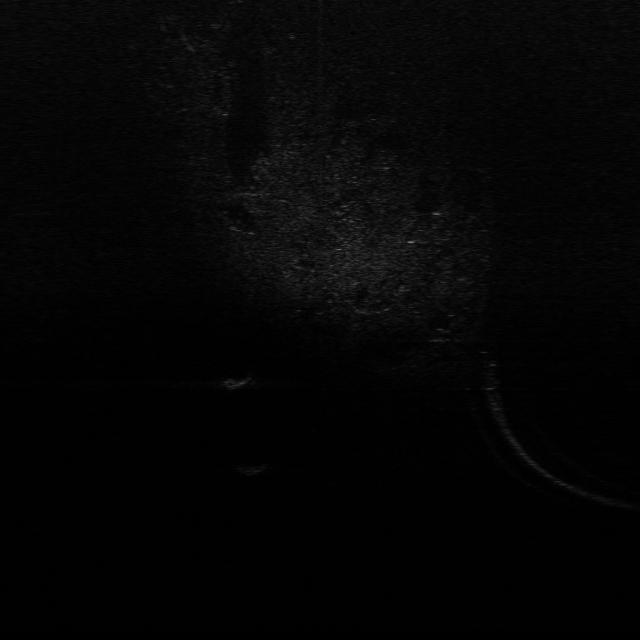cube: (232, 460, 269, 478)
square cage: (216, 373, 253, 392)
